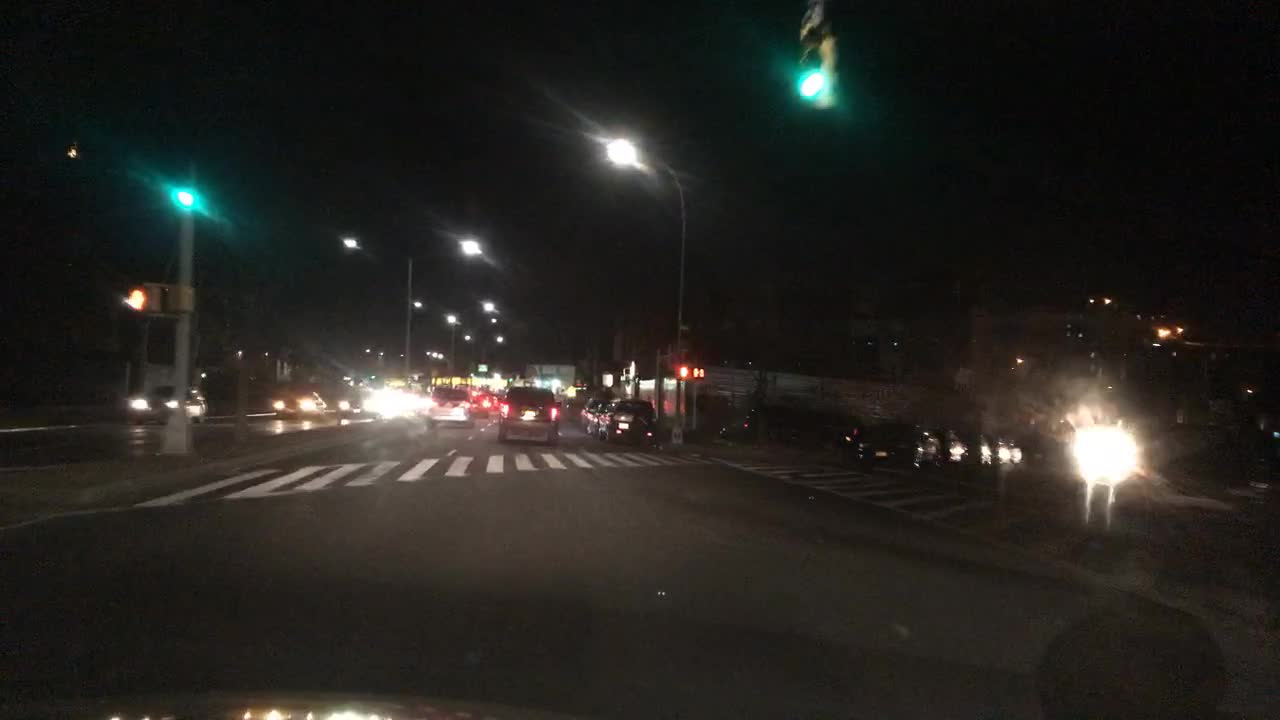car: (844, 421, 941, 466), (1068, 427, 1138, 481), (497, 386, 563, 443), (125, 386, 209, 423), (604, 398, 650, 438), (425, 389, 471, 429), (337, 387, 380, 423), (274, 389, 329, 416), (930, 428, 966, 466), (563, 384, 586, 421), (588, 400, 611, 436), (964, 435, 991, 464), (383, 389, 405, 420), (401, 387, 423, 416), (579, 400, 598, 432), (468, 393, 489, 416), (993, 437, 1009, 462), (1010, 441, 1024, 459)
traffic light: (792, 0, 845, 106), (127, 283, 159, 314), (170, 187, 197, 210), (686, 366, 704, 382), (676, 364, 690, 382)
